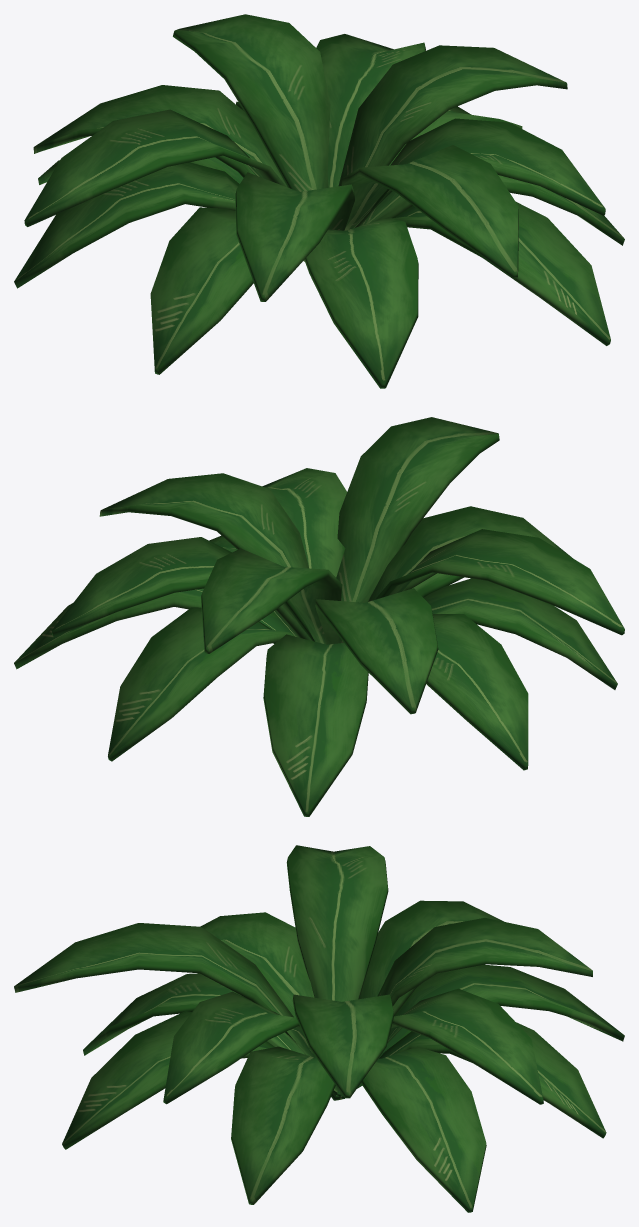
The model's file is BirdsNest1.fbx.
The picture shows the model from 3 angles, top to bottom: view 1: azimuth 30°, elevation 25°; view 2: azimuth 150°, elevation 25°; view 3: azimuth 270°, elevation 25°; orthographic projection. The views are drawn at different scales.
Parts seen in each view (by area): view 1: BirdsNest1; view 2: BirdsNest1; view 3: BirdsNest1.
Part boxes in pixels (x1=…): BirdsNest1: x1=14, y1=14, x2=624, y2=388; BirdsNest1: x1=14, y1=417, x2=624, y2=816; BirdsNest1: x1=14, y1=845, x2=624, y2=1212.
Bounding box in the file's own units: 0.9649 × 0.2893 × 0.9946.
